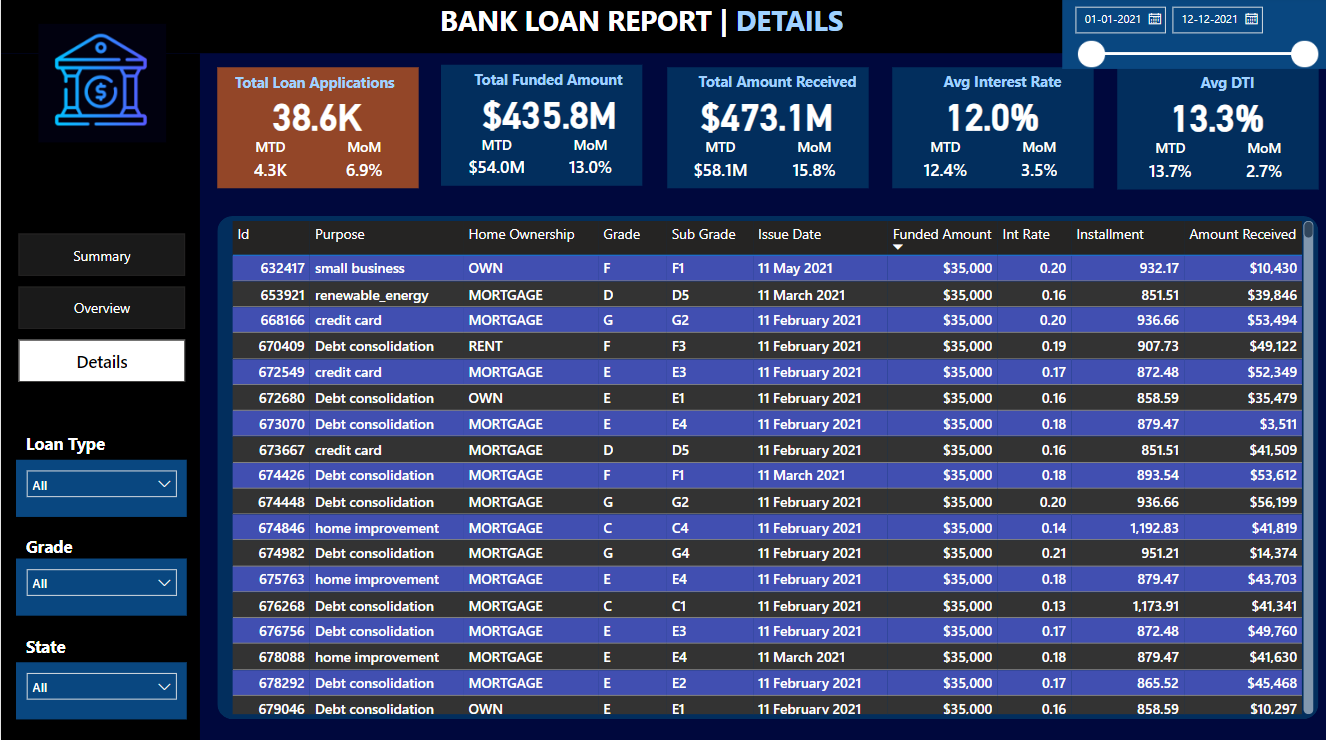

This screenshot's page, from the dashboard's own definition file:
{"tool":"powerbi","page":{"name":"Details","canvas":[1280,720],"ordinal":2},"visuals":[{"type":"shape","box":[0,0,1280,55],"z":0},{"type":"slicer","fields":{"Values":["bank_loan_data.address_state"]},"box":[15,643.4,165,55],"z":0,"group":"g7"},{"type":"shape","box":[0,55.5,192,665.6],"z":1000},{"type":"textbox","box":[15,611.7,146.7,31.7],"z":1000,"group":"g7"},{"type":"shape","box":[0,0,1280,55.5],"z":2000},{"type":"slicer","fields":{"Values":["bank_loan_data.grade"]},"box":[15,543.4,165,55],"z":2000,"group":"g7"},{"type":"textbox","box":[418.3,0,445,55],"z":3000},{"type":"textbox","box":[15,515,146.7,31.7],"z":3000,"group":"g7"},{"type":"shape","box":[425,67.1,194.3,117.1],"z":4000,"group":"g2"},{"type":"group","id":"g1","title":"Group 1","box":[208.8,68.4,194.8,117.1],"z":4000},{"type":"shape","box":[208.8,68.6,194.8,116.9],"z":4000,"group":"g1"},{"type":"shape","box":[643.3,68.8,194.8,116.9],"z":4000,"group":"g3"},{"type":"shape","box":[860.2,68.8,194.8,116.9],"z":4000,"group":"g5"},{"type":"shape","box":[1077.1,70.3,194.8,116.9],"z":4000,"group":"g4"},{"type":"slicer","fields":{"Values":["bank_loan_data.Loan Type"]},"box":[15,448.4,165,55],"z":4000,"group":"g7"},{"type":"group","id":"g2","title":"Group 1","box":[425,66.9,194.3,117.3],"z":5000},{"type":"card","title":"MTD","fields":{"Values":["bank_loan_data.MTD Funded Application"]},"box":[444.2,134.4,68.8,48.8],"z":5000,"group":"g2"},{"type":"card","title":"MTD","fields":{"Values":["bank_loan_data.MTD Loan Application"]},"box":[225.7,135.7,68.8,48.8],"z":5000,"group":"g1"},{"type":"card","title":"MTD","fields":{"Values":["bank_loan_data.MTD Total Amount Recieved"]},"box":[660.2,135.9,68.8,48.8],"z":5000,"group":"g3"},{"type":"card","title":"MTD","fields":{"Values":["bank_loan_data.MTD Avg Int Rate"]},"box":[877.1,135.9,68.8,48.8],"z":5000,"group":"g5"},{"type":"card","title":"MTD","fields":{"Values":["bank_loan_data.MTD Avg DTI"]},"box":[1094,137.4,68.8,48.8],"z":5000,"group":"g4"},{"type":"textbox","box":[15,416.7,146.7,31.7],"z":5000,"group":"g7"},{"type":"textbox","box":[439.5,66.9,178.3,30],"z":6000,"group":"g2"},{"type":"group","id":"g3","title":"Group 1","box":[643.3,67.1,195.7,118.6],"z":6000},{"type":"textbox","box":[660.2,67.1,178.8,30],"z":6000,"group":"g3"},{"type":"textbox","box":[877.1,67.1,178.8,30],"z":6000,"group":"g5"},{"type":"textbox","box":[220.6,68.4,178.6,30],"z":6000,"group":"g1"},{"type":"textbox","box":[1094,68.6,178.8,30],"z":6000,"group":"g4"},{"type":"group","id":"g4","title":"Group 1","box":[1077.1,68.6,194.3,118.6],"z":7000},{"type":"card","fields":{"Values":["bank_loan_data.Total Funded Amount"]},"box":[450,81.7,158.9,61.1],"z":7000,"group":"g6"},{"type":"card","fields":{"Values":["bank_loan_data.Total Loan Applications"]},"box":[225.7,83.2,158.8,61.2],"z":7000,"group":"g1"},{"type":"card","fields":{"Values":["bank_loan_data.Total Amount Received"]},"box":[660.2,83.3,158.8,61.2],"z":7000,"group":"g3"},{"type":"card","fields":{"Values":["bank_loan_data.Avg Interest Rate"]},"box":[877.1,83.3,158.8,61.2],"z":7000,"group":"g5"},{"type":"card","fields":{"Values":["bank_loan_data.Avg DTI"]},"box":[1094,84.8,158.8,61.2],"z":7000,"group":"g4"},{"type":"group","id":"g5","title":"Group 1","box":[860.2,67.1,195.7,118.6],"z":8000},{"type":"card","title":"MoM","fields":{"Values":["bank_loan_data.Mom Total Funded Amount"]},"box":[534.2,134.4,68.8,48.8],"z":8000,"group":"g2"},{"type":"card","title":"MoM","fields":{"Values":["bank_loan_data.Mom Loan Applications"]},"box":[315.7,135.7,68.8,48.8],"z":8000,"group":"g1"},{"type":"card","title":"MoM","fields":{"Values":["bank_loan_data.Mom Total Amount Received"]},"box":[750.2,135.9,68.8,48.8],"z":8000,"group":"g3"},{"type":"card","title":"MoM","fields":{"Values":["bank_loan_data.MoM Avg Int Rate"]},"box":[967.1,135.9,68.8,48.8],"z":8000,"group":"g5"},{"type":"card","title":"MoM","fields":{"Values":["bank_loan_data.MoM Avg DTI"]},"box":[1184,137.4,68.8,48.8],"z":8000,"group":"g4"},{"type":"shape","box":[208.6,212.9,1062.9,485.7],"z":9000},{"type":"group","id":"g6","title":"Group 1","box":[450,81.7,158.3,61.7],"z":10000},{"type":"group","id":"g7","title":"Group 2","box":[15,416.7,165,281.7],"z":11000},{"type":"tableEx","fields":{"Values":["bank_loan_data.id","bank_loan_data.purpose","bank_loan_data.home_ownership","bank_loan_data.grade","bank_loan_data.sub_grade","bank_loan_data.issue_date","bank_loan_data.Total Funded Amount","Sum(bank_loan_data.int_rate)","Sum(bank_loan_data.installment)","bank_loan_data.Total Amount Received"]},"box":[217.1,212.9,1054.3,485.7],"z":12000},{"type":"image","box":[31.4,20.5,132.7,127.9],"z":13000},{"type":"pageNavigator","box":[16.9,229.2,161.7,146],"z":14000},{"type":"slicer","fields":{"Values":["Date.Date"]},"box":[1024.4,0,255.4,70.7],"z":14001}]}

Visuals, with their boxes in screenshot pixels (x1, y1, x2, y2), scaled from the page's 1280x720 canvas onto the 1326x740 screenshot:
shape: {"left": 0, "top": 0, "right": 1325, "bottom": 57}
slicer - bank_loan_data.address_state: {"left": 16, "top": 661, "right": 186, "bottom": 718}
shape: {"left": 0, "top": 57, "right": 199, "bottom": 739}
textbox: {"left": 16, "top": 629, "right": 168, "bottom": 661}
shape: {"left": 0, "top": 0, "right": 1325, "bottom": 57}
slicer - bank_loan_data.grade: {"left": 16, "top": 558, "right": 186, "bottom": 615}
textbox: {"left": 433, "top": 0, "right": 894, "bottom": 57}
textbox: {"left": 16, "top": 529, "right": 168, "bottom": 562}
shape: {"left": 440, "top": 69, "right": 642, "bottom": 189}
"Group 1" group: {"left": 216, "top": 70, "right": 418, "bottom": 191}
shape: {"left": 216, "top": 71, "right": 418, "bottom": 191}
shape: {"left": 666, "top": 71, "right": 868, "bottom": 191}
shape: {"left": 891, "top": 71, "right": 1093, "bottom": 191}
shape: {"left": 1116, "top": 72, "right": 1318, "bottom": 192}
slicer - bank_loan_data.Loan Type: {"left": 16, "top": 461, "right": 186, "bottom": 517}
"Group 1" group: {"left": 440, "top": 69, "right": 642, "bottom": 189}
"MTD" card: {"left": 460, "top": 138, "right": 531, "bottom": 188}
"MTD" card: {"left": 234, "top": 139, "right": 305, "bottom": 190}
"MTD" card: {"left": 684, "top": 140, "right": 755, "bottom": 190}
"MTD" card: {"left": 909, "top": 140, "right": 980, "bottom": 190}
"MTD" card: {"left": 1133, "top": 141, "right": 1205, "bottom": 191}
textbox: {"left": 16, "top": 428, "right": 168, "bottom": 461}
textbox: {"left": 455, "top": 69, "right": 640, "bottom": 100}
"Group 1" group: {"left": 666, "top": 69, "right": 869, "bottom": 191}
textbox: {"left": 684, "top": 69, "right": 869, "bottom": 100}
textbox: {"left": 909, "top": 69, "right": 1094, "bottom": 100}
textbox: {"left": 229, "top": 70, "right": 414, "bottom": 101}
textbox: {"left": 1133, "top": 71, "right": 1319, "bottom": 101}
"Group 1" group: {"left": 1116, "top": 71, "right": 1317, "bottom": 192}
card - bank_loan_data.Total Funded Amount: {"left": 466, "top": 84, "right": 631, "bottom": 147}
card - bank_loan_data.Total Loan Applications: {"left": 234, "top": 86, "right": 398, "bottom": 148}
card - bank_loan_data.Total Amount Received: {"left": 684, "top": 86, "right": 848, "bottom": 149}
card - bank_loan_data.Avg Interest Rate: {"left": 909, "top": 86, "right": 1073, "bottom": 149}
card - bank_loan_data.Avg DTI: {"left": 1133, "top": 87, "right": 1298, "bottom": 150}
"Group 1" group: {"left": 891, "top": 69, "right": 1094, "bottom": 191}
"MoM" card: {"left": 553, "top": 138, "right": 625, "bottom": 188}
"MoM" card: {"left": 327, "top": 139, "right": 398, "bottom": 190}
"MoM" card: {"left": 777, "top": 140, "right": 848, "bottom": 190}
"MoM" card: {"left": 1002, "top": 140, "right": 1073, "bottom": 190}
"MoM" card: {"left": 1227, "top": 141, "right": 1298, "bottom": 191}
shape: {"left": 216, "top": 219, "right": 1317, "bottom": 718}
"Group 1" group: {"left": 466, "top": 84, "right": 630, "bottom": 147}
"Group 2" group: {"left": 16, "top": 428, "right": 186, "bottom": 718}
tableEx - bank_loan_data.id x bank_loan_data.purpose: {"left": 225, "top": 219, "right": 1317, "bottom": 718}
image: {"left": 33, "top": 21, "right": 170, "bottom": 153}
pageNavigator: {"left": 18, "top": 236, "right": 185, "bottom": 386}
slicer - Date.Date: {"left": 1061, "top": 0, "right": 1325, "bottom": 73}
